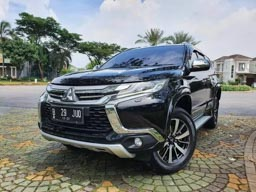plat: (51, 105, 84, 118)
